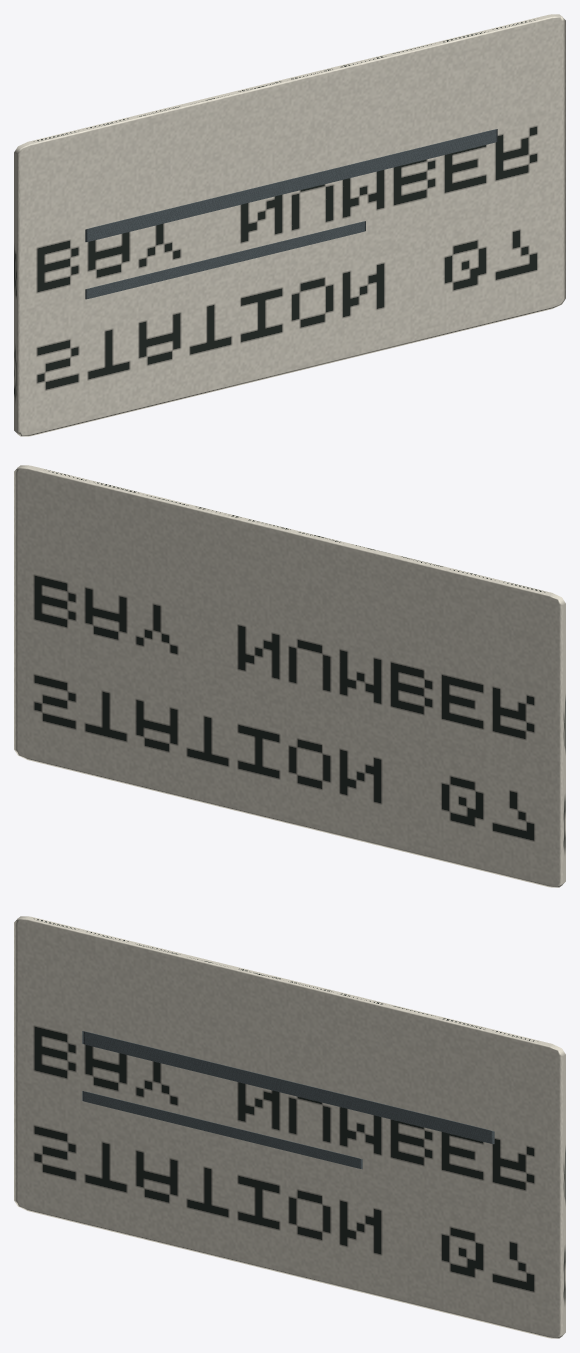
Rendered from bay-number.glb.
3 renders of one model, top to bottom at view 1: azimuth 30°, elevation 25°; view 2: azimuth 150°, elevation 25°; view 3: azimuth 330°, elevation 25°, orthographic.
Parts seen in each view (by area): view 1: board, stripe, line; view 2: board; view 3: board, stripe, line.
Part boxes in pixels (<box>): board: <box>14,14,565,436</box>; stripe: <box>85,129,497,241</box>; line: <box>85,221,365,299</box>; board: <box>14,465,565,887</box>; board: <box>14,916,565,1338</box>; stripe: <box>82,1031,494,1143</box>; line: <box>82,1091,362,1169</box>.
Bounding box in the file's own units: 0.55 × 0.28 × 0.00544.
Materials: 2 (2 with a texture image).
